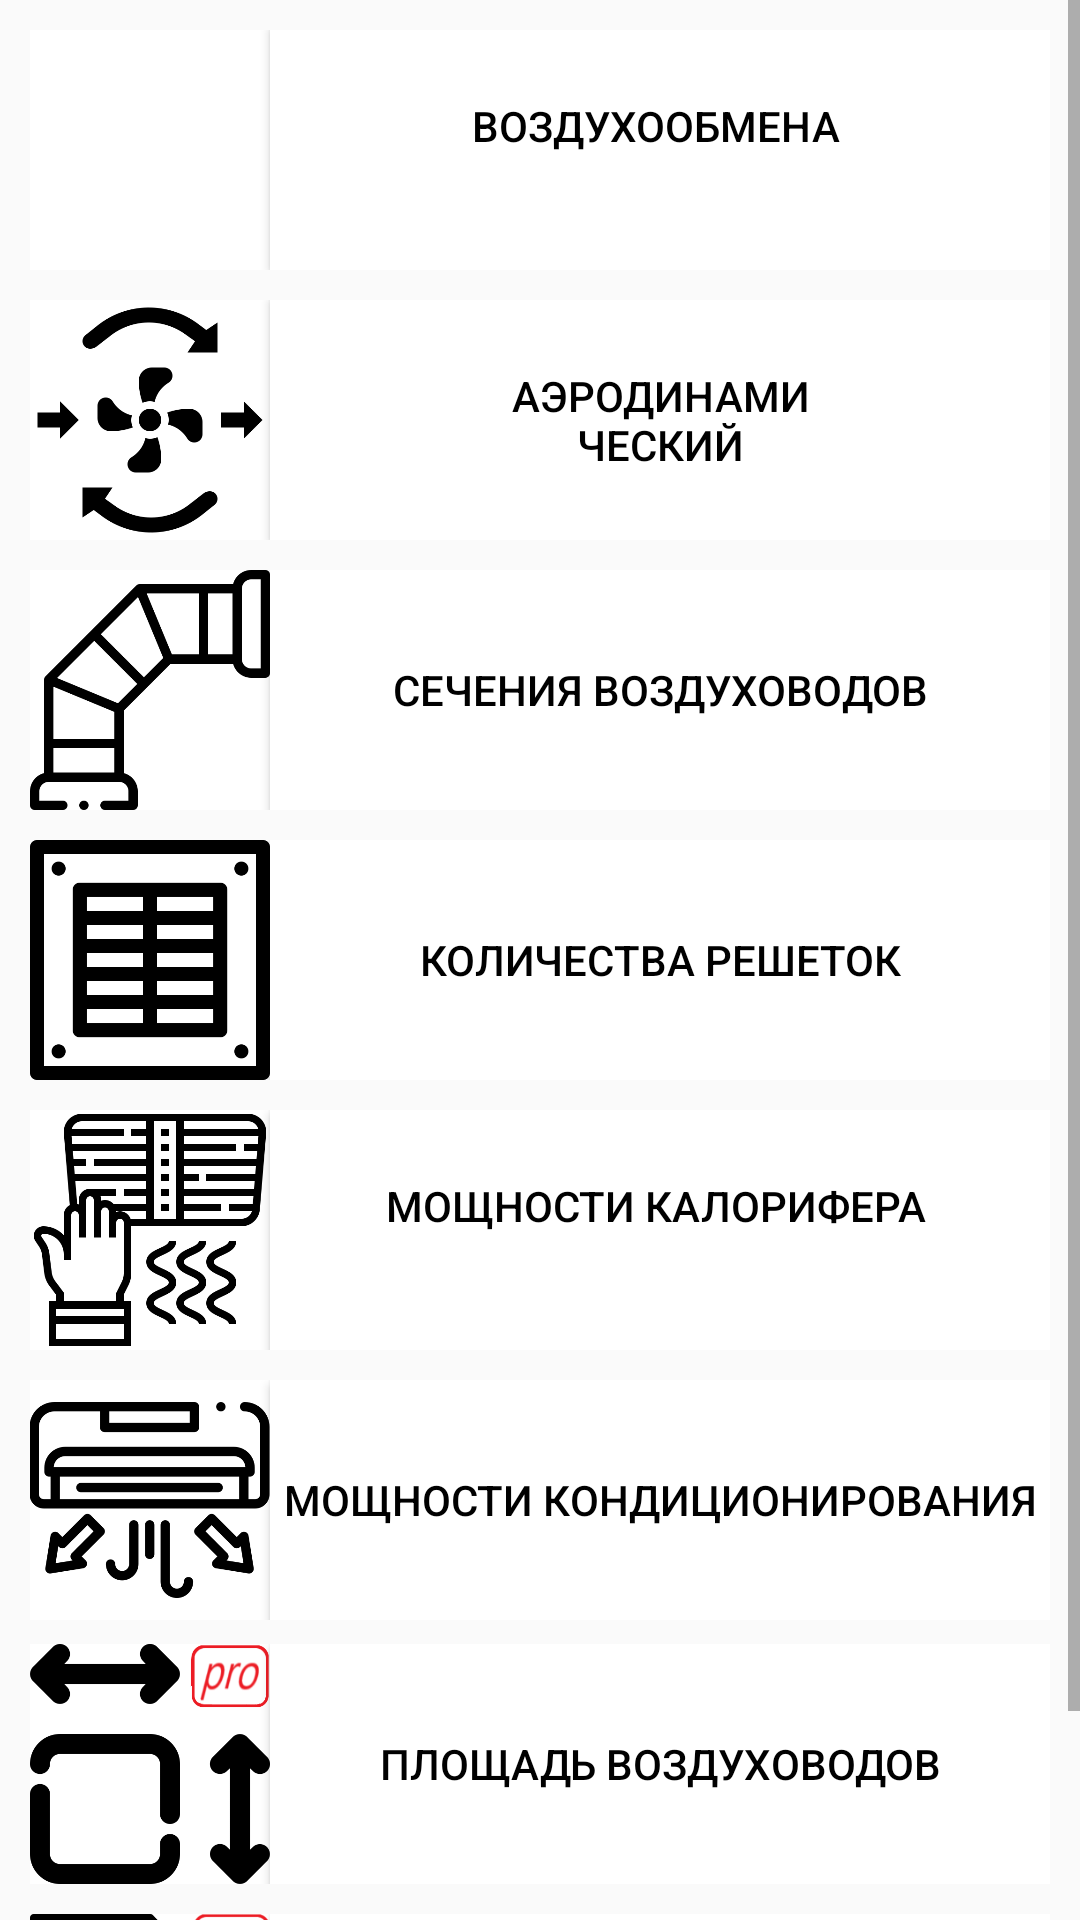

Where to tap for icons on this 1080 x 1920 app screen, as [x,y]:
ploshadpro: [150,1764]
reshetki: [150,960]
vozduhovod: [150,690]
